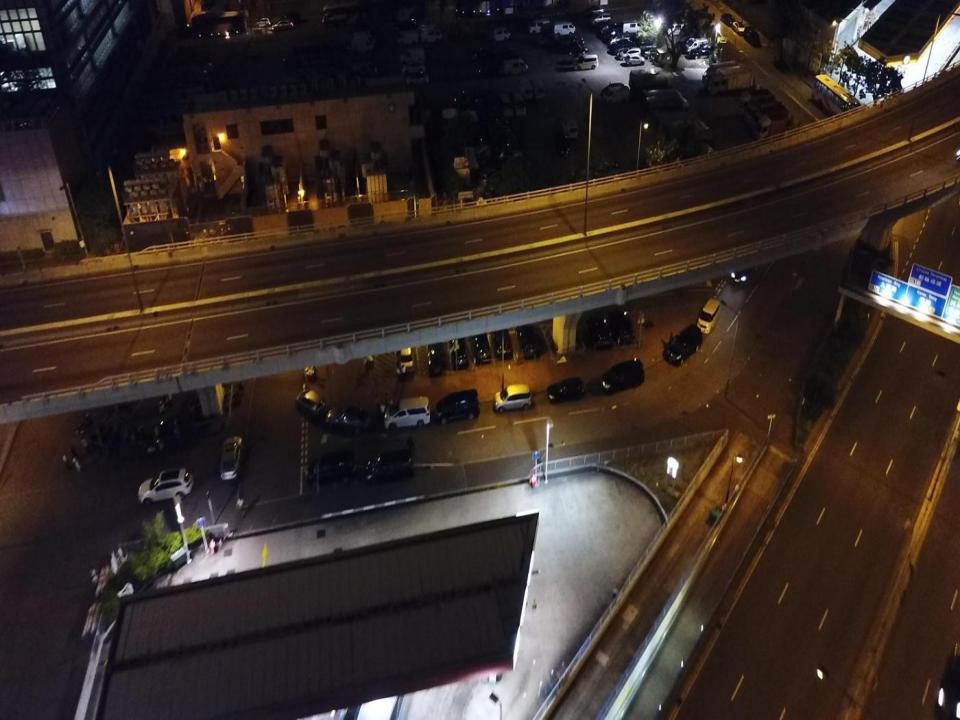bus: (811, 74, 860, 129), (191, 10, 247, 37), (322, 1, 375, 25)
car: (138, 468, 194, 507), (307, 452, 357, 484), (326, 404, 371, 433), (584, 306, 613, 350), (731, 244, 760, 286), (219, 435, 243, 481), (609, 302, 634, 346), (494, 385, 531, 413), (296, 388, 328, 420), (516, 319, 540, 357), (547, 377, 584, 401), (493, 321, 513, 362), (472, 324, 492, 364), (427, 334, 446, 376), (450, 329, 468, 370), (400, 336, 414, 372), (689, 44, 715, 59), (612, 39, 636, 54), (498, 149, 522, 163), (556, 131, 569, 156), (560, 34, 585, 46), (272, 18, 294, 31), (406, 72, 429, 84), (402, 60, 424, 72), (479, 65, 501, 77), (566, 43, 588, 55), (604, 30, 624, 43), (599, 22, 619, 35), (626, 54, 646, 66), (593, 12, 610, 26), (774, 57, 788, 72), (732, 21, 746, 36), (721, 13, 736, 27), (644, 48, 661, 60), (584, 6, 604, 16), (281, 13, 300, 22), (573, 54, 590, 64), (254, 16, 271, 26)
truck: (655, 114, 712, 144), (667, 144, 717, 176), (628, 69, 674, 97), (708, 67, 751, 96), (753, 114, 792, 142), (647, 97, 690, 121), (643, 90, 685, 114), (702, 64, 740, 90), (745, 99, 782, 125), (738, 90, 774, 116)
van: (364, 449, 414, 484), (599, 358, 644, 396), (665, 322, 702, 368), (384, 396, 430, 430), (434, 389, 479, 423), (697, 298, 720, 334), (603, 87, 630, 103), (562, 115, 578, 140), (504, 59, 528, 75), (478, 167, 498, 186), (513, 92, 527, 118), (402, 48, 425, 63), (575, 54, 598, 69), (528, 19, 551, 34), (351, 38, 374, 53), (500, 93, 513, 119), (744, 26, 760, 47), (666, 22, 690, 36), (531, 78, 546, 100), (472, 144, 491, 161), (621, 20, 644, 34), (685, 38, 708, 52), (518, 78, 532, 100), (420, 28, 442, 42), (553, 21, 575, 35), (352, 31, 374, 45), (487, 28, 510, 41), (397, 30, 418, 44), (619, 48, 641, 60), (609, 34, 631, 45)
